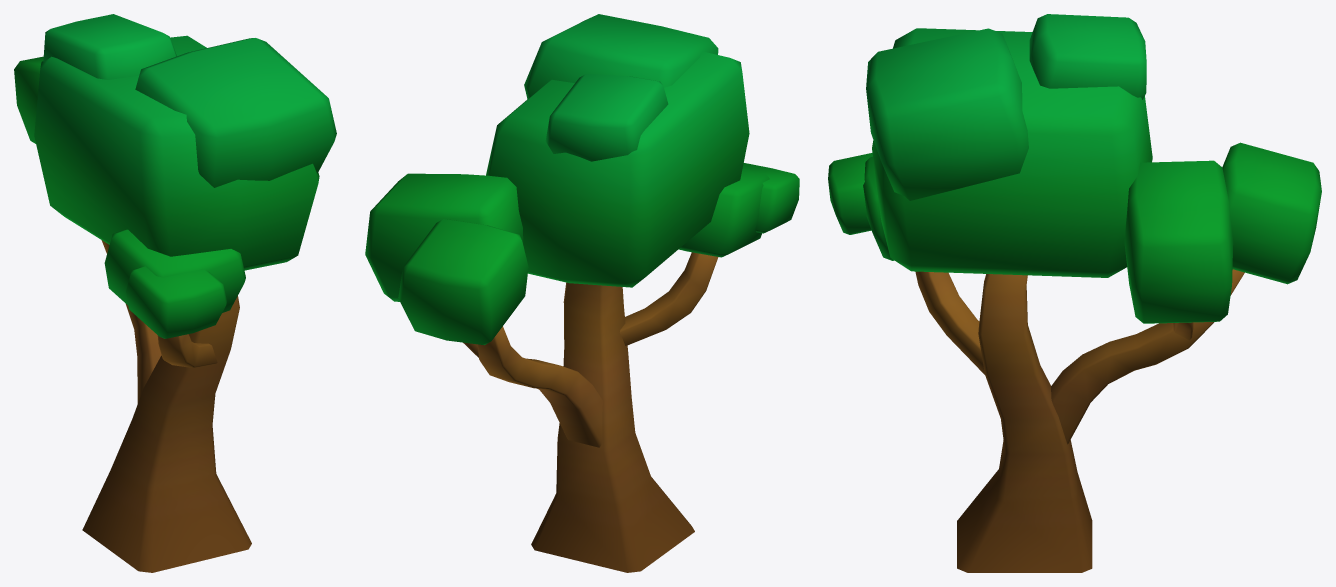
File: Tree_F_5_.fbx
3 renders of one model, left to right at view 1: azimuth 30°, elevation 25°; view 2: azimuth 150°, elevation 25°; view 3: azimuth 270°, elevation 25°, orthographic. The views are drawn at different scales.
Visible parts, largest first — view 1: Tree_F_5; view 2: Tree_F_5; view 3: Tree_F_5.
Part boxes in pixels (x1,y1,x2,y2): Tree_F_5: (14,14,336,572); Tree_F_5: (365,14,799,572); Tree_F_5: (828,14,1321,572).
Bounding box in the file's own units: 282 × 489 × 435.
